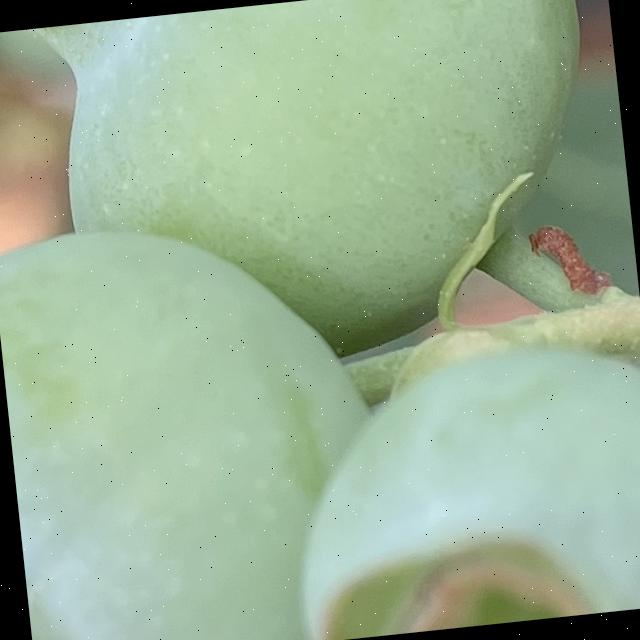Blueberries: (30, 0, 614, 377), (0, 196, 395, 640)
